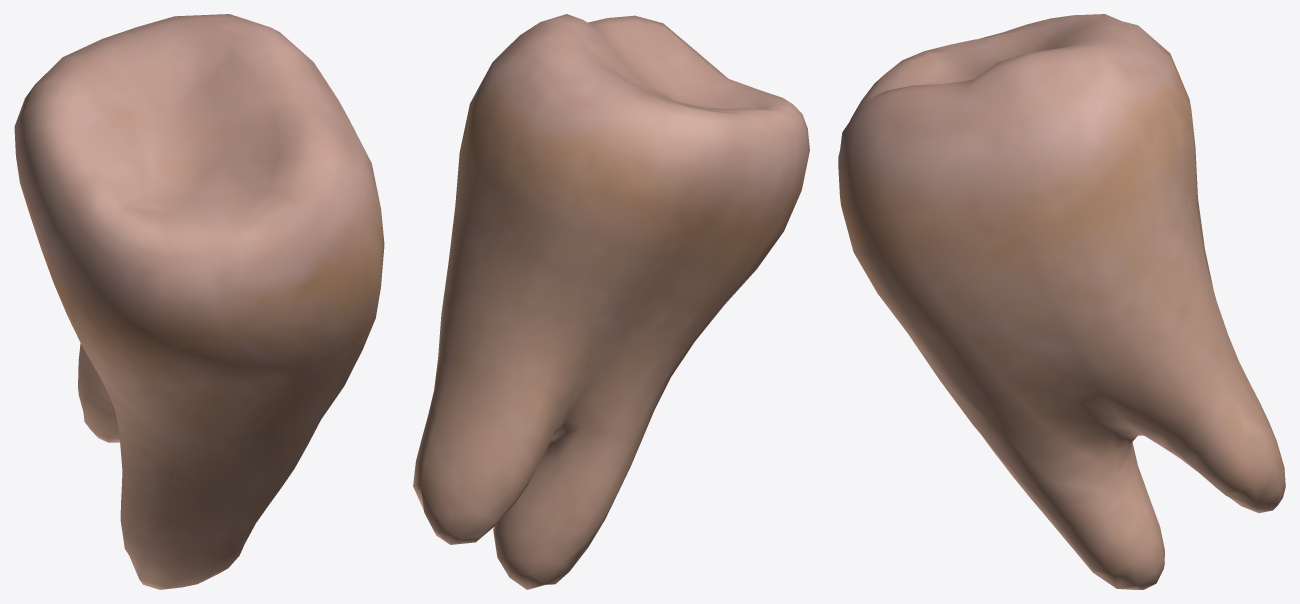
The picture shows the model from 3 angles, left to right: view 1: azimuth 30°, elevation 25°; view 2: azimuth 150°, elevation 25°; view 3: azimuth 270°, elevation 25°; orthographic projection. The views are drawn at different scales.
Visible parts, largest first — view 1: t_38; view 2: t_38; view 3: t_38.
Boxes of the visible parts, bbox=[...] form: t_38: bbox=[14, 14, 384, 589]; t_38: bbox=[413, 14, 809, 589]; t_38: bbox=[838, 14, 1285, 589].
Bounding box in the file's own units: 0.0813 × 0.1488 × 0.1111.
1 material, 1 textured.
